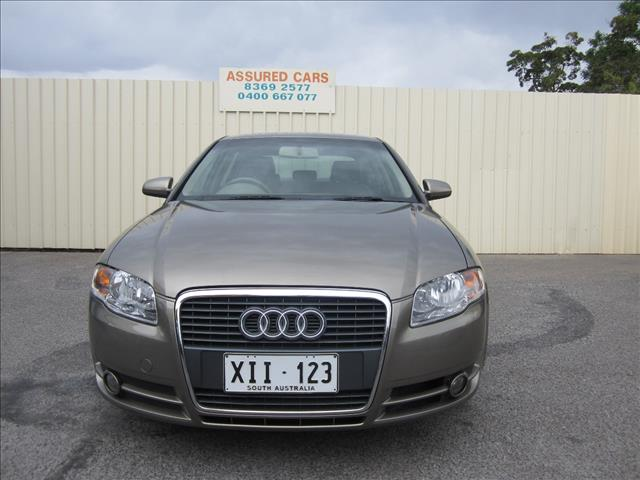audi: (228, 302, 327, 345)
